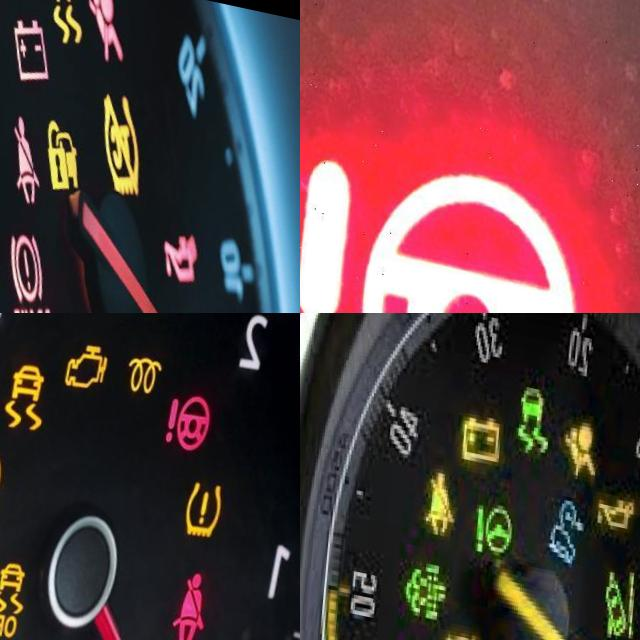Electronic Power Steering: (165, 375, 220, 444)
Electronic Power Steering Warning: (300, 127, 591, 313)
Seat Belt: (177, 553, 221, 633), (10, 107, 49, 196), (426, 455, 466, 529)
